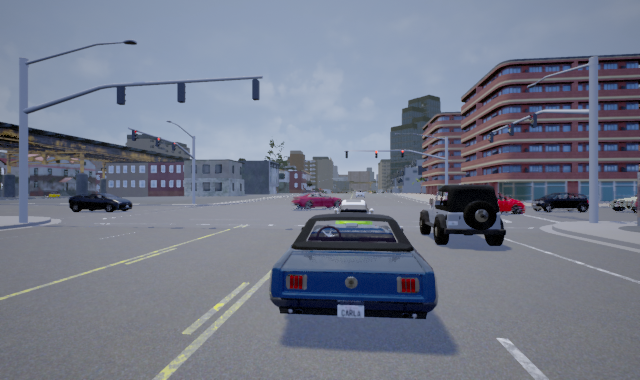vehicle: (269, 211, 438, 320), (417, 183, 506, 248), (448, 190, 531, 216), (330, 198, 376, 243), (65, 192, 131, 212), (528, 192, 592, 212), (291, 192, 341, 208), (610, 191, 640, 213)
